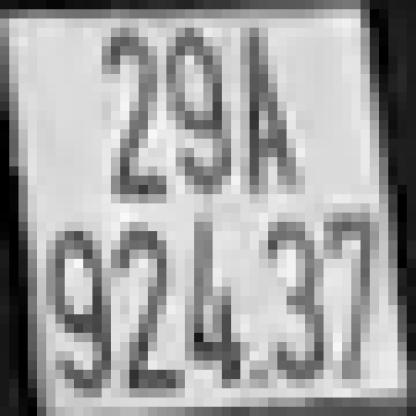2: (111, 222, 185, 388), (102, 28, 157, 203)
3: (250, 222, 314, 370)
4: (185, 213, 240, 379)
7: (314, 204, 370, 361)
9: (46, 222, 111, 388), (167, 28, 231, 194)
A: (231, 28, 296, 185)
